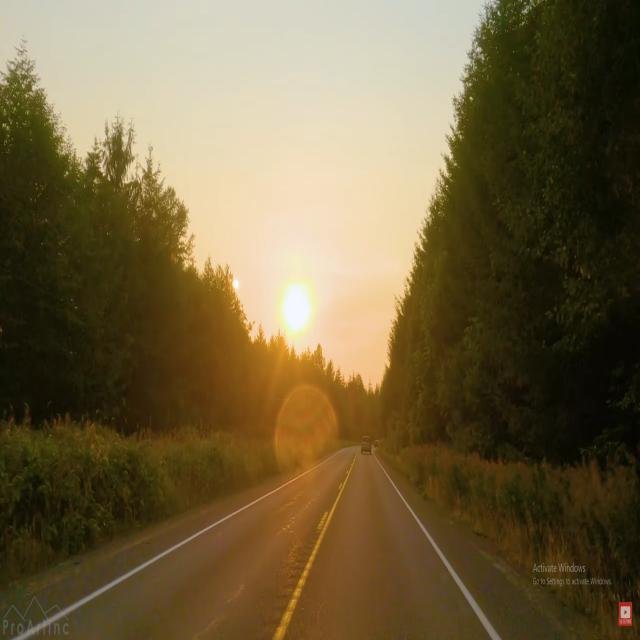sun: (272, 270, 320, 340)
